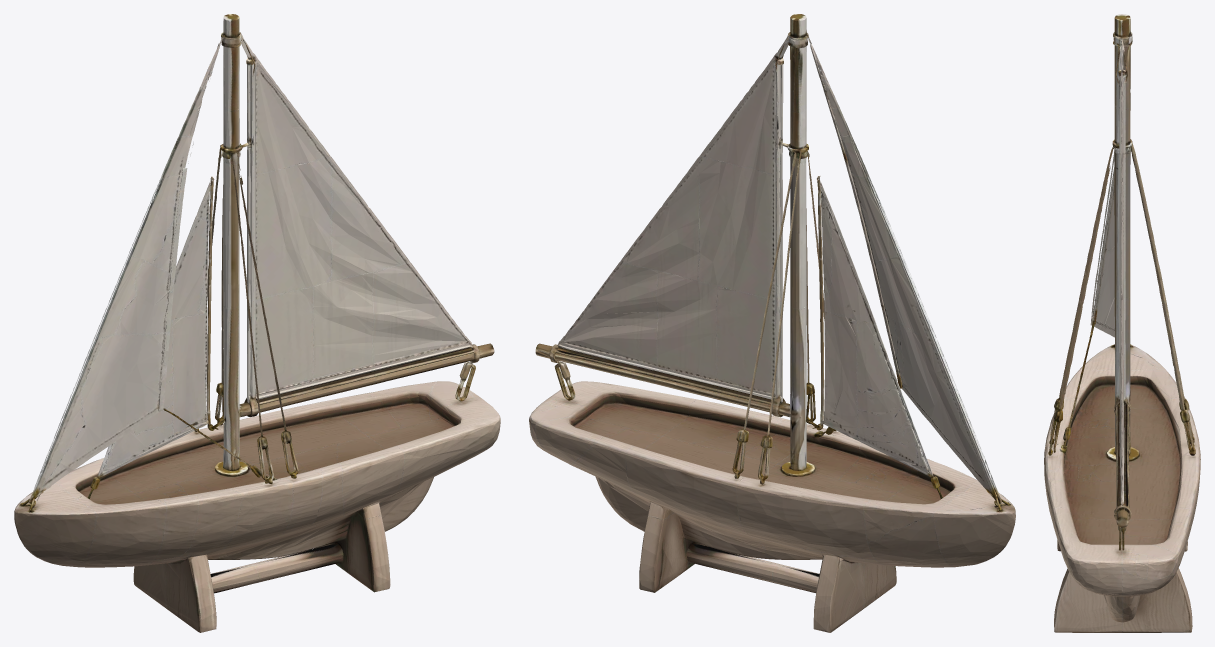
File: study-sailboat.glb
3 renders of one model, left to right at view 1: azimuth 30°, elevation 25°; view 2: azimuth 150°, elevation 25°; view 3: azimuth 270°, elevation 25°, orthographic. The views are drawn at different scales.
Visible parts, largest first — view 1: tmpaajc4ese.obj; view 2: tmpaajc4ese.obj; view 3: tmpaajc4ese.obj.
Boxes of the visible parts, bbox=[...] form: tmpaajc4ese.obj: bbox=[14, 14, 500, 632]; tmpaajc4ese.obj: bbox=[529, 14, 1015, 632]; tmpaajc4ese.obj: bbox=[1044, 14, 1200, 632].
Size of the model in its own units: 1.28 by 1.48 by 0.3773.
Materials: 1 (1 with a texture image).
